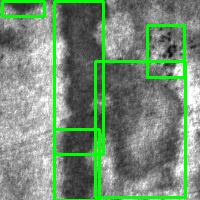inclusion: (147, 25, 184, 77)
patches: (95, 61, 185, 197), (54, 1, 103, 154), (54, 129, 99, 200), (2, 1, 44, 16)
